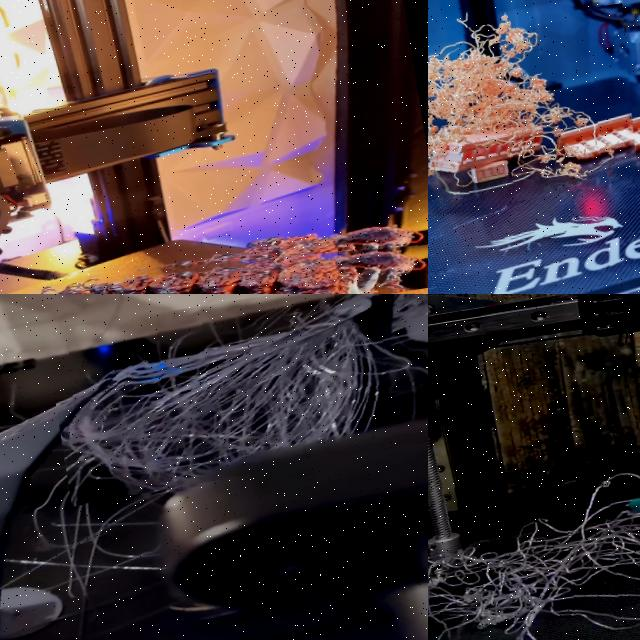spaghetti: (44, 294, 428, 506), (428, 416, 640, 640), (428, 3, 640, 219), (47, 216, 428, 294)
